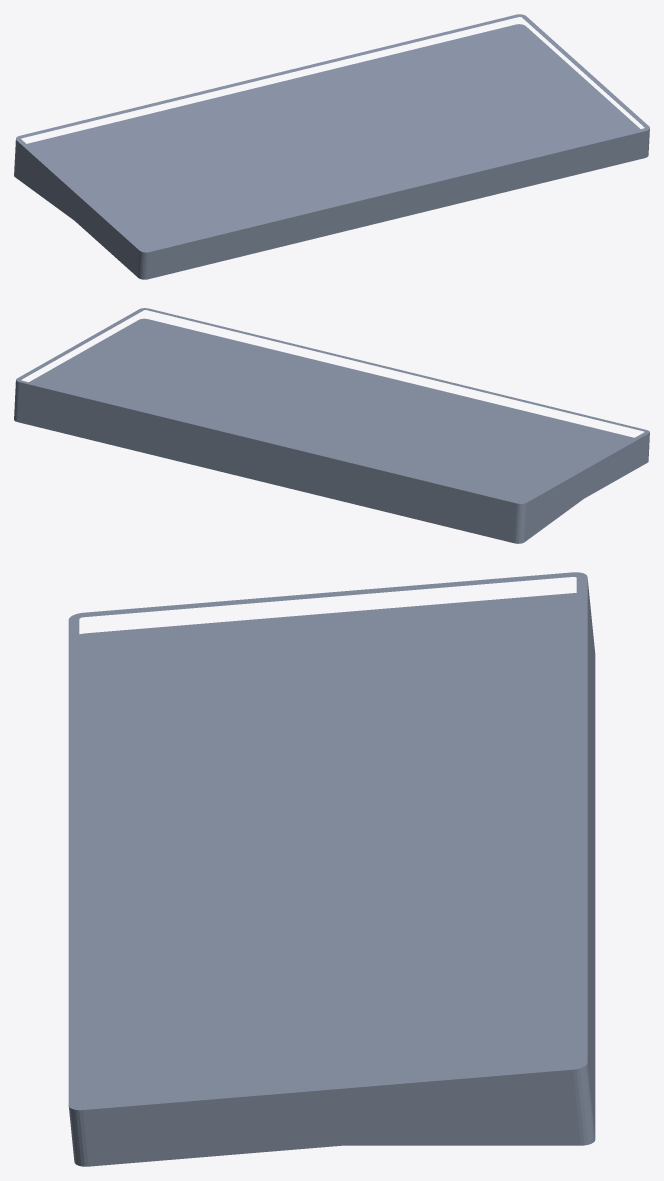
File: keychron-q1-qmk-custom-mechanical-keyboard-version-1.glb
3 views of the same model, one above another, from view 1: azimuth 30°, elevation 25°; view 2: azimuth 150°, elevation 25°; view 3: azimuth 270°, elevation 25° (orthographic). The views are drawn at different scales.
Visible parts, largest first — view 1: bottomCase/case-bottom, topCase/case-top; view 2: bottomCase/case-bottom, topCase/case-top; view 3: bottomCase/case-bottom, topCase/case-top.
Part boxes in pixels (left/top/right/bottom): bottomCase/case-bottom: left=14, top=14, right=649, bottom=269; topCase/case-top: left=15, top=24, right=649, bottom=279; bottomCase/case-bottom: left=14, top=308, right=649, bottom=543; topCase/case-top: left=14, top=318, right=648, bottom=532; bottomCase/case-bottom: left=68, top=572, right=595, bottom=1145; topCase/case-top: left=71, top=593, right=593, bottom=1166.
Size of the model in its own units: 1.07e+07 by 999451 by 4802785.
